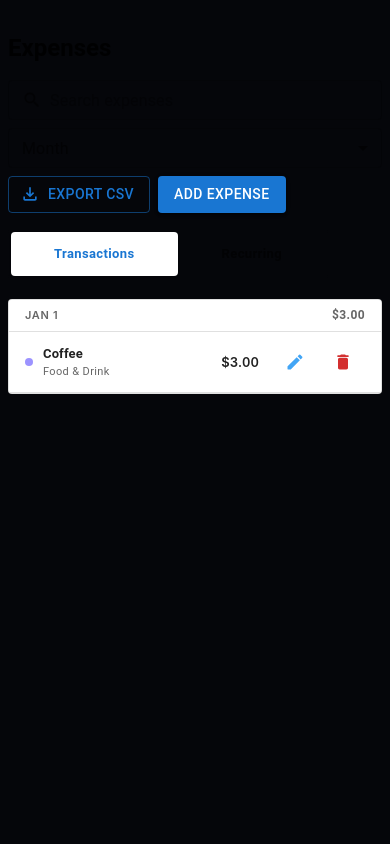
Test: shows expenses and opens Quick Capture
Expected: the text "Coffee" is shown, [43, 346, 83, 360]
Click the button "Add Expense": (222, 194) [158, 176, 286, 212]
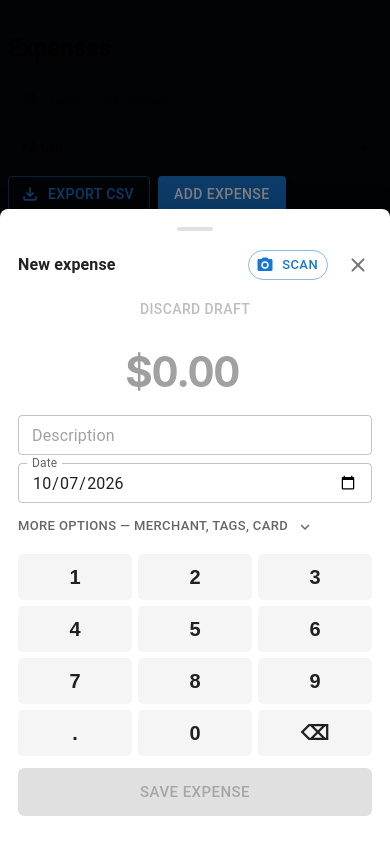
Expected: the text "New expense" is shown, [18, 253, 116, 277]
